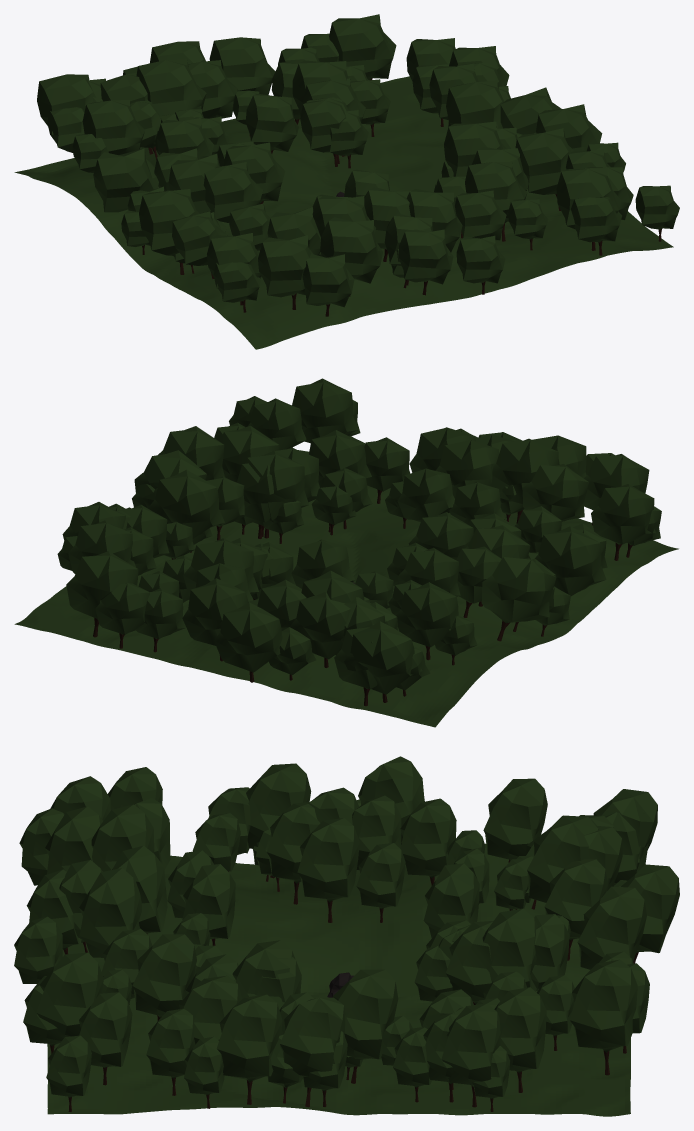
File: sceene.obj
The picture shows the model from 3 angles, top to bottom: view 1: azimuth 30°, elevation 25°; view 2: azimuth 150°, elevation 25°; view 3: azimuth 270°, elevation 25°; orthographic projection. The views are drawn at different scales.
Parts seen in each view (by area): view 1: Tree_PROXY.001_Cylinder.002; view 2: Tree_PROXY.001_Cylinder.002; view 3: Tree_PROXY.001_Cylinder.002.
Boxes of the visible parts, x1=… form: Tree_PROXY.001_Cylinder.002: x1=14, y1=14, x2=679, y2=349; Tree_PROXY.001_Cylinder.002: x1=14, y1=378, x2=678, y2=727; Tree_PROXY.001_Cylinder.002: x1=14, y1=756, x2=679, y2=1116.
Size of the model in its own units: 64.74 by 14.55 by 68.49.
